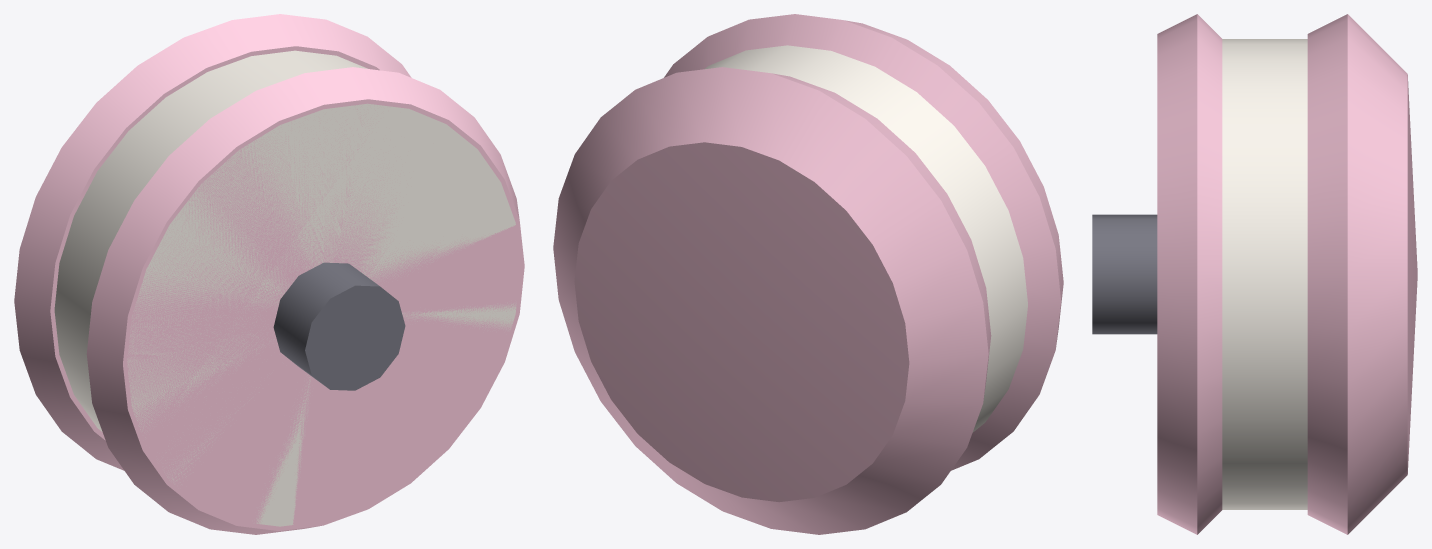
File: ITEM_MacaronWheel.fbx
3 renders of one model, left to right at view 1: azimuth 30°, elevation 25°; view 2: azimuth 150°, elevation 25°; view 3: azimuth 270°, elevation 25°, orthographic. The views are drawn at different scales.
Visible parts, largest first — view 1: ITEM_MacaronWheel; view 2: ITEM_MacaronWheel; view 3: ITEM_MacaronWheel.
Boxes of the visible parts, x1,y1,x2,y2 form: ITEM_MacaronWheel: (14, 14, 524, 534); ITEM_MacaronWheel: (553, 14, 1063, 534); ITEM_MacaronWheel: (1092, 14, 1417, 534).
Size of the model in its own units: 0.52 by 0.52 by 0.325.
